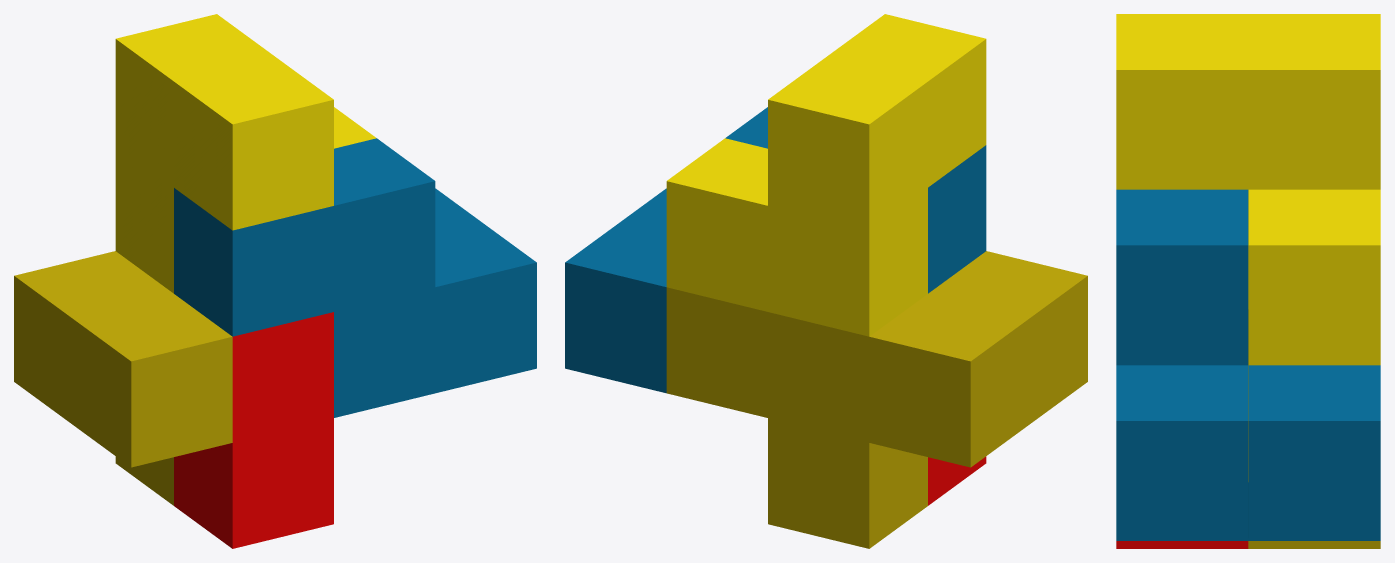
3 renders of one model, left to right at view 1: azimuth 30°, elevation 25°; view 2: azimuth 150°, elevation 25°; view 3: azimuth 270°, elevation 25°, orthographic. The views are drawn at different scales.
Parts seen in each view (by area): view 1: mergedBlocks(Clone); view 2: mergedBlocks(Clone); view 3: mergedBlocks(Clone).
Part boxes in pixels (x1=…): mergedBlocks(Clone): x1=14, y1=14, x2=536, y2=548; mergedBlocks(Clone): x1=565, y1=14, x2=1087, y2=548; mergedBlocks(Clone): x1=1116, y1=14, x2=1380, y2=548.
Size of the model in its own units: 4 by 4 by 2.
Materials: 4 (4 with a texture image).
